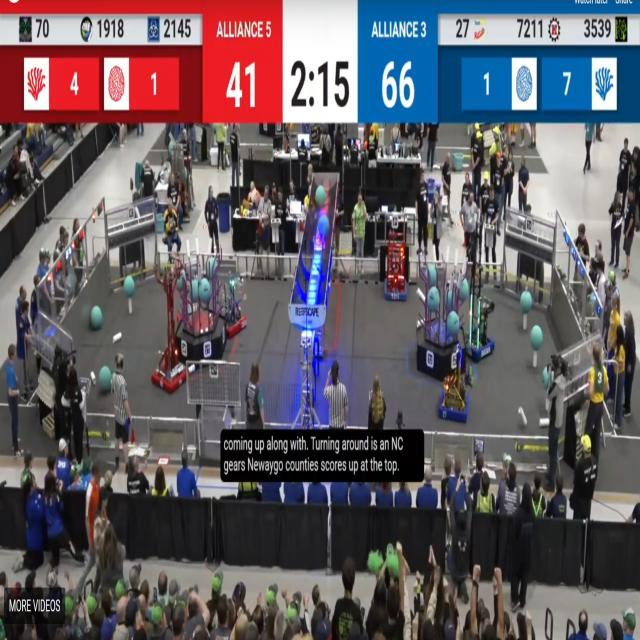Robot-YfA7: (152, 261, 184, 395), (437, 346, 473, 425), (467, 262, 496, 357), (221, 275, 246, 339), (385, 237, 408, 302)
